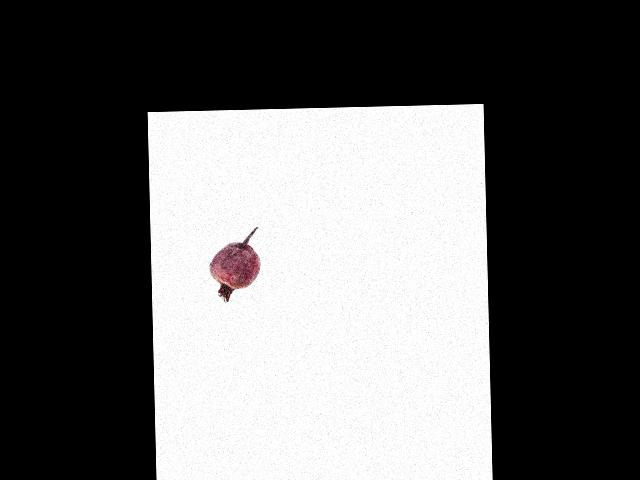beet: (209, 228, 261, 302)
